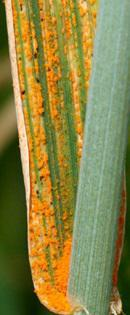Wheat: (29, 123, 85, 298), (12, 5, 92, 122)
